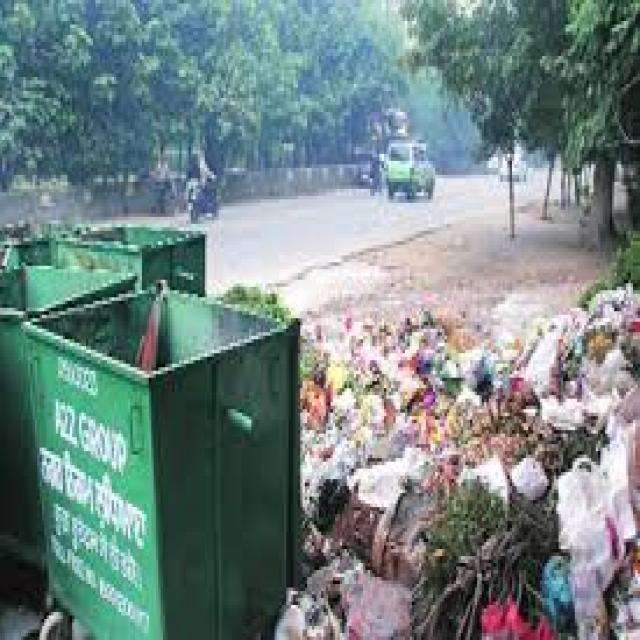garbage: (0, 194, 640, 640)
